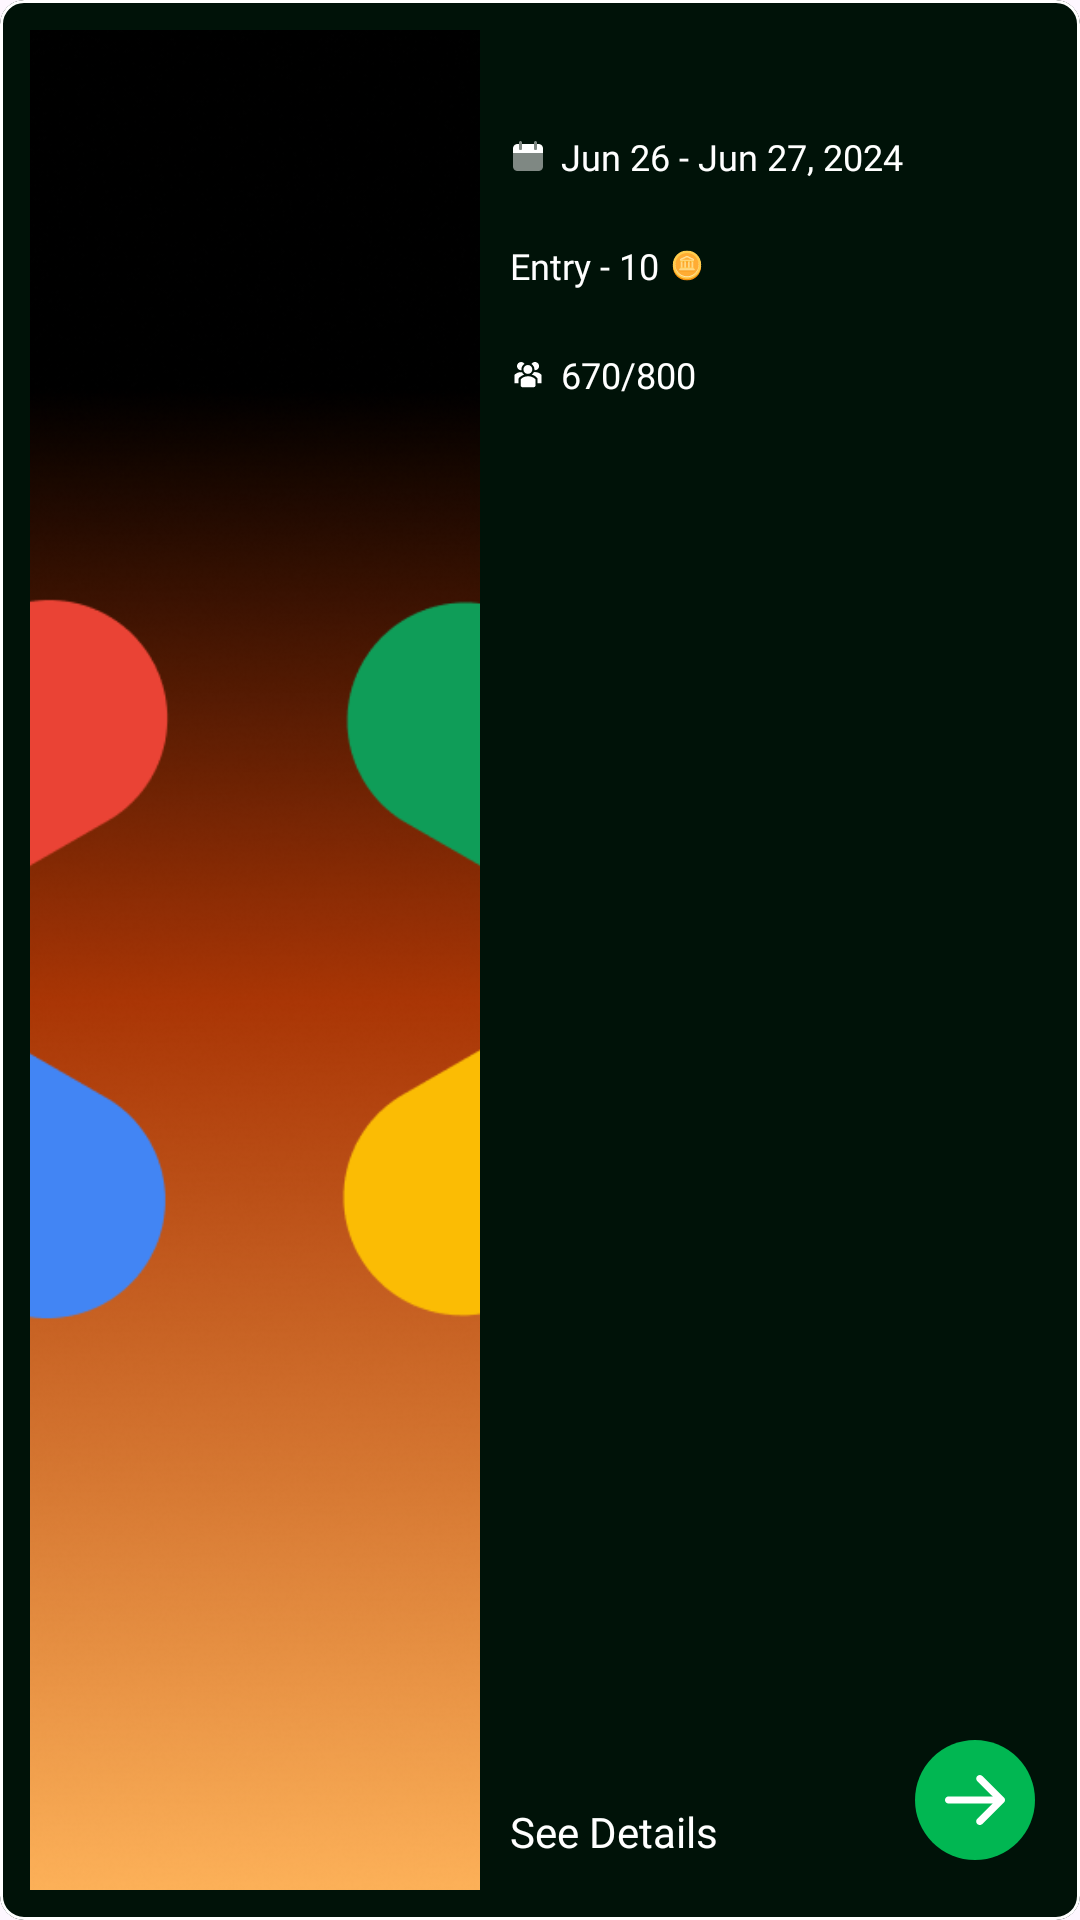

Icons on this 1080x1920 Android screen, each with its box as (x1, y1, x2, y2):
calender: (513, 141, 543, 171)
coin: (672, 250, 702, 281)
